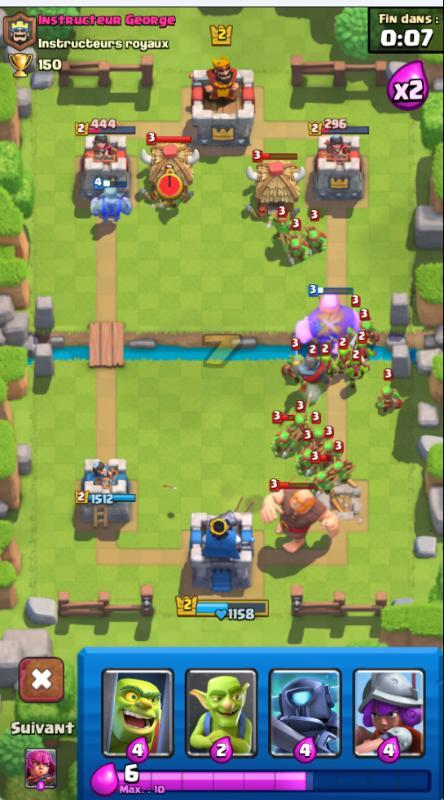enemy_giant: (258, 478, 342, 557)
enemy_goblin_hut: (136, 135, 201, 212), (240, 151, 307, 219)
enemy_knight: (291, 346, 335, 393)
enemy_spear_goblins: (372, 370, 408, 414), (268, 414, 302, 455), (324, 448, 358, 485), (290, 439, 323, 477), (338, 353, 371, 390), (298, 215, 331, 250), (265, 213, 297, 247), (278, 230, 311, 262), (319, 438, 345, 462), (306, 423, 332, 447), (286, 407, 312, 431)
player_caged_goblin: (81, 177, 137, 226)
